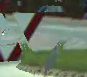Give way: (0, 3, 48, 72)
